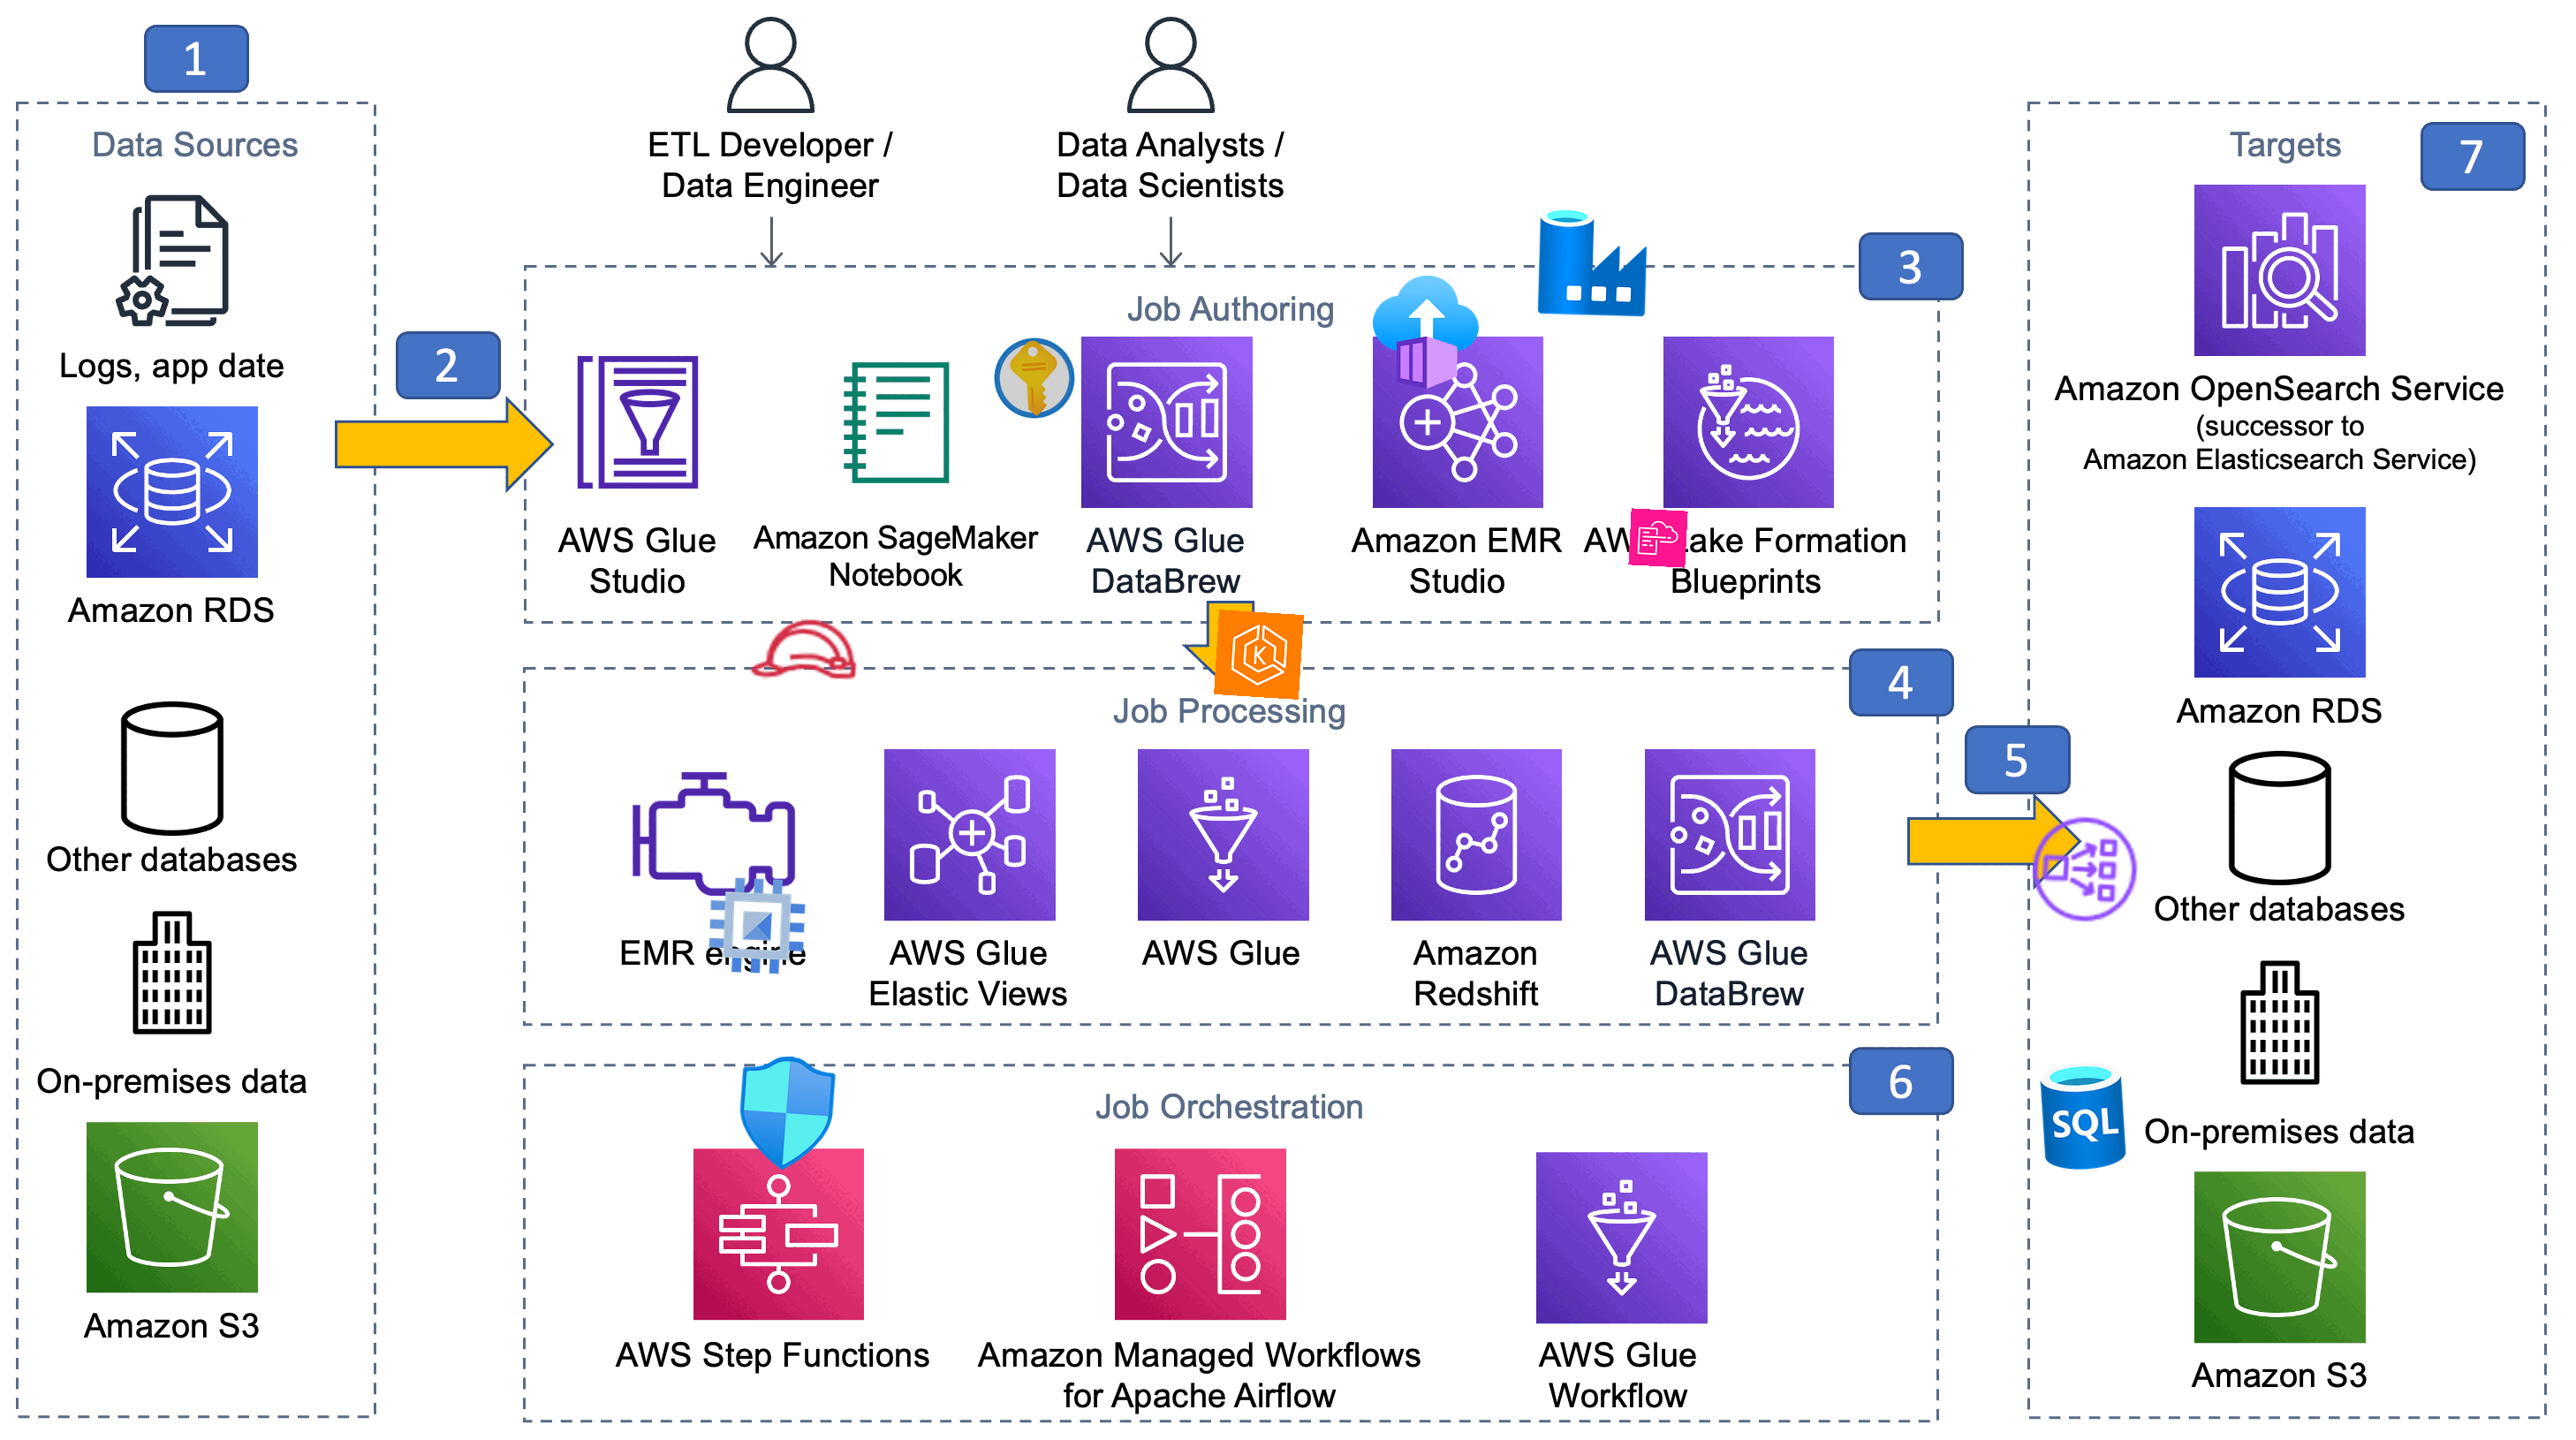aws_amazon_elastic_kubernetes_service: (1214, 610, 1304, 701)
aws_cloudformation: (1628, 508, 1688, 568)
aws_elastic_load_balancing_network_load_balancer: (2024, 808, 2144, 929)
aws_identity_access_management_role: (743, 589, 865, 711)
azure_container_instances: (1368, 274, 1483, 389)
azure_data_factories: (1534, 203, 1651, 320)
azure_key_vaults: (989, 333, 1079, 423)
azure_network_security_groups: (725, 1053, 847, 1175)
azure_sql_database: (2022, 1056, 2143, 1176)
gcp_compute_engine: (697, 867, 816, 985)
